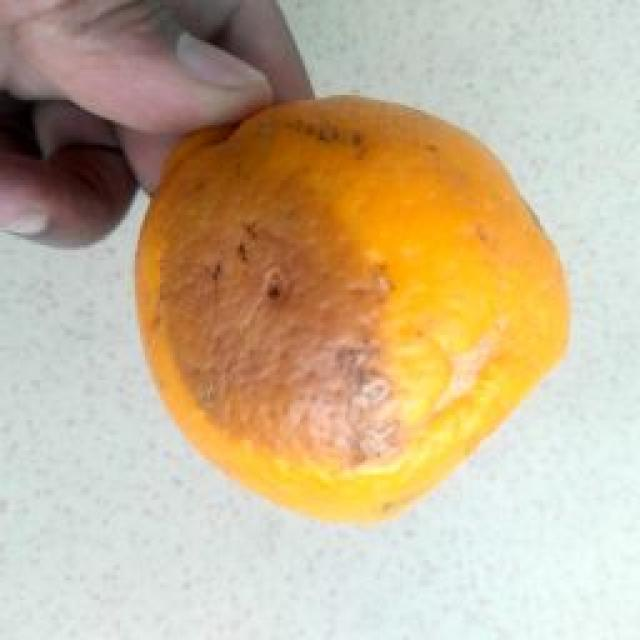Bad_Orange: (138, 98, 565, 522)
